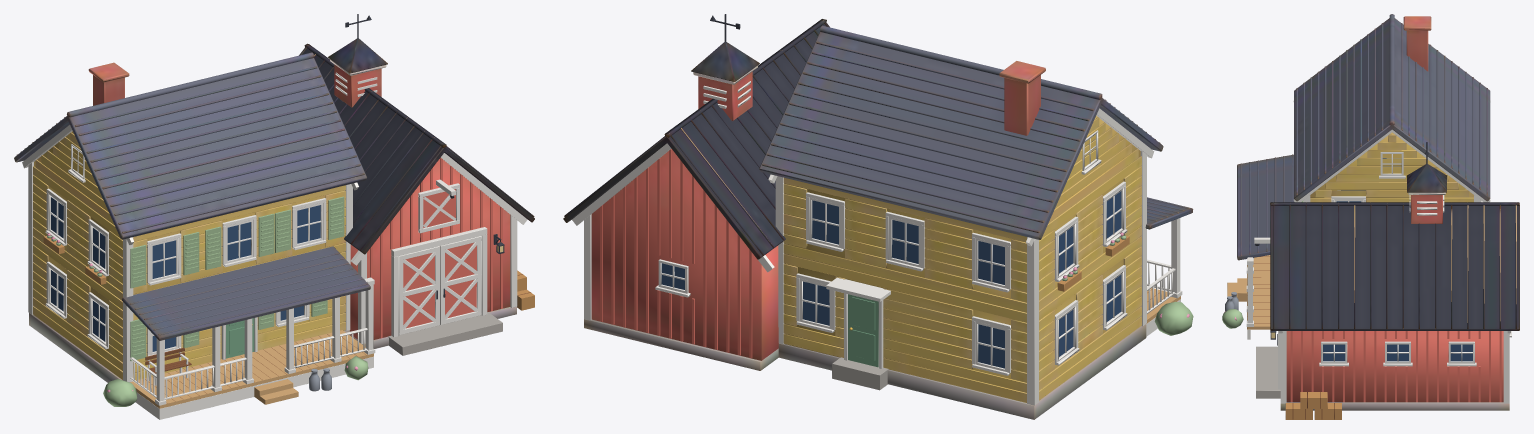
Rendered from farmhouse.glb.
3 views of the same model, side by side, from view 1: azimuth 30°, elevation 25°; view 2: azimuth 150°, elevation 25°; view 3: azimuth 270°, elevation 25° (orthographic). The views are drawn at different scales.
Parts seen in each view (by area): view 1: farmhouse_body, farmhouse_barn_door_left, farmhouse_details; view 2: farmhouse_body, farmhouse_barn_door_left, farmhouse_details; view 3: farmhouse_body, farmhouse_barn_door_left, farmhouse_details.
Part boxes in pixels (x1=…): farmhouse_body: x1=14, y1=38, x2=534, y2=382; farmhouse_barn_door_left: x1=22, y1=14, x2=527, y2=419; farmhouse_details: x1=43, y1=152, x2=534, y2=408; farmhouse_body: x1=563, y1=19, x2=1193, y2=419; farmhouse_barn_door_left: x1=572, y1=14, x2=1182, y2=405; farmhouse_details: x1=661, y1=140, x2=1193, y2=390; farmhouse_body: x1=1237, y1=14, x2=1519, y2=410; farmhouse_barn_door_left: x1=1246, y1=100, x2=1511, y2=403; farmhouse_details: x1=1222, y1=158, x2=1472, y2=419.
Size of the model in its own units: 15.37 by 9.24 by 10.26.
19 materials, 1 textured.
